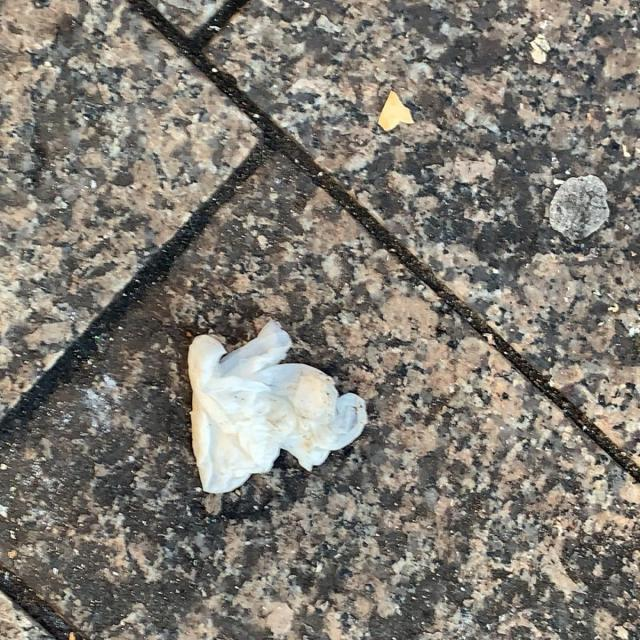Paper: (186, 318, 370, 496)
